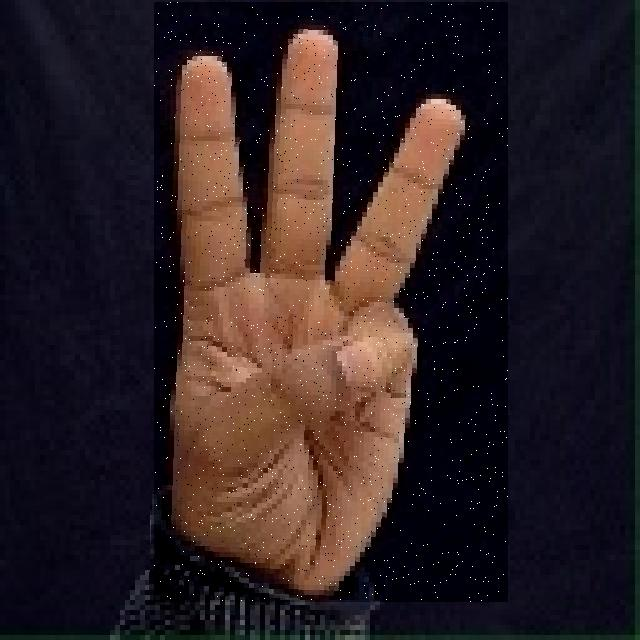Please: (154, 2, 508, 602)
